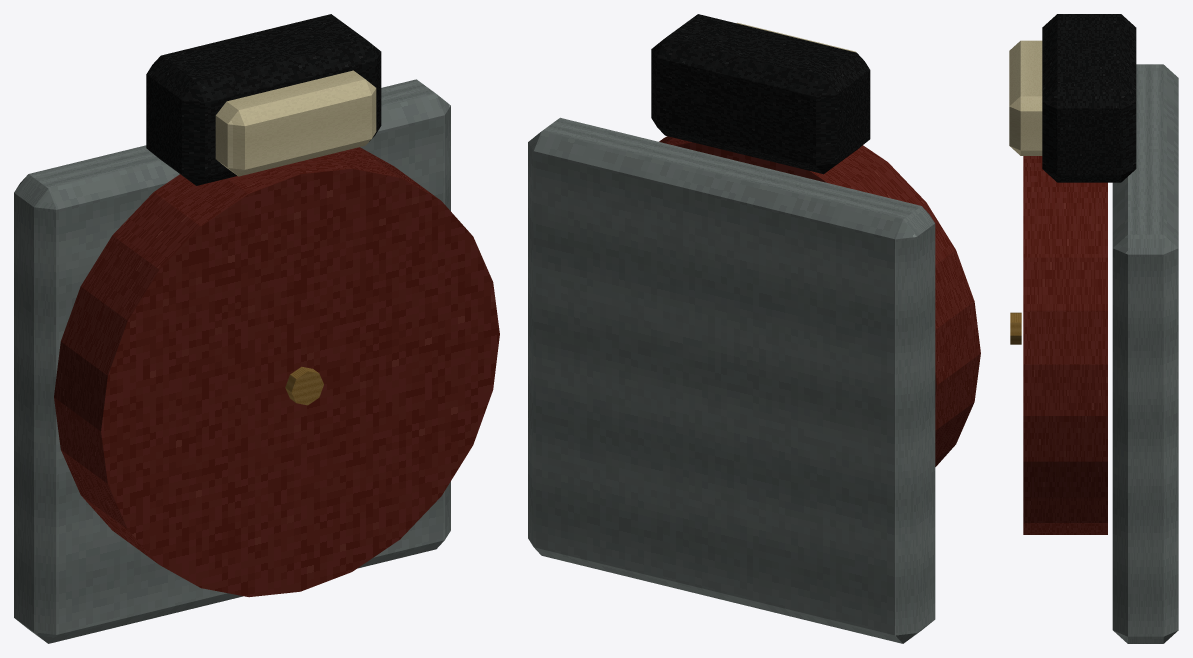
The model's file is level_event_fire_alarm.glb.
3 views of the same model, side by side, from view 1: azimuth 30°, elevation 25°; view 2: azimuth 150°, elevation 25°; view 3: azimuth 270°, elevation 25° (orthographic). The views are drawn at different scales.
Visible parts, largest first — view 1: level_event_fire_alarm; view 2: level_event_fire_alarm; view 3: level_event_fire_alarm.
Boxes of the visible parts, <box> form: level_event_fire_alarm: <box>14,14,499,643</box>; level_event_fire_alarm: <box>528,14,980,643</box>; level_event_fire_alarm: <box>1009,14,1178,643</box>.
Bounding box in the file's own units: 0.23 × 0.2975 × 0.09.
5 materials, 5 textured.
